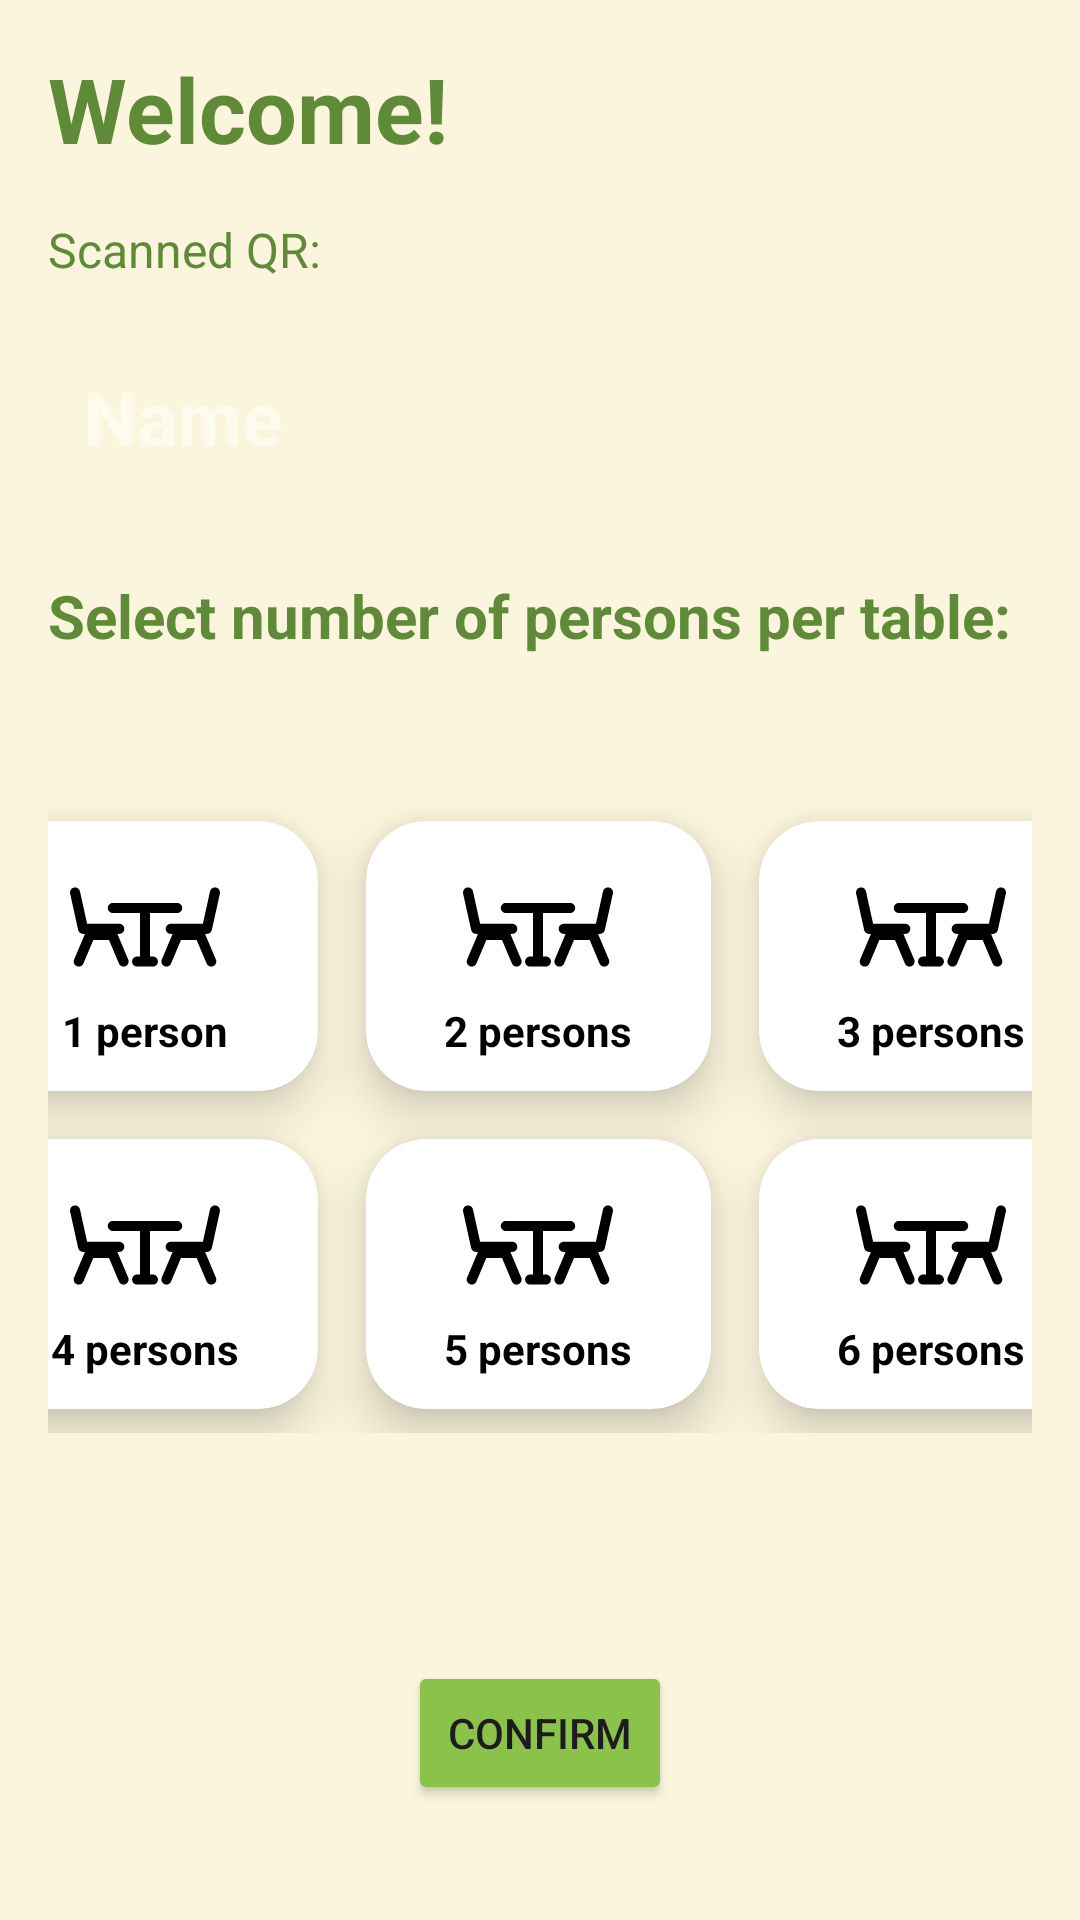

Named icons in this screenshot (1080 × 1920) and their centers, point (x, y):
table: point (145, 927), point (538, 927), point (931, 927), point (145, 1245), point (538, 1245), point (931, 1245)
